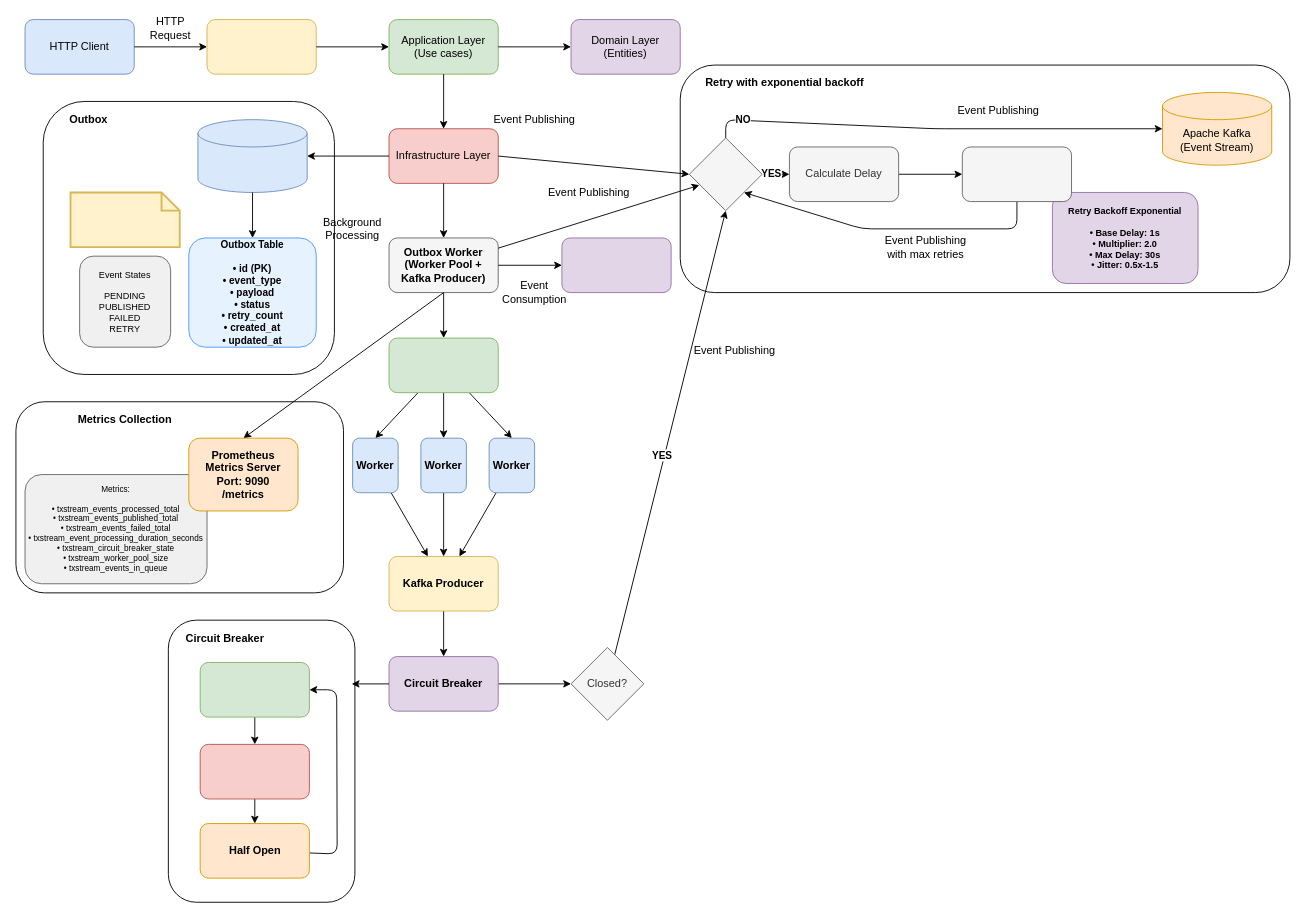
Some shapes in this 1306 by 918 pixel diagram are drawn without their labels. The centre of each missing label's shape, as x and y in pixels:
"ACID Transaction Event stored atomically with business data" belongs at (124,219).
"API Gateway (Gorilla Mux)" belongs at (261,46).
"Closed" belongs at (254,689).
"Event Consumers (Microservices)" belongs at (616,265).
"Fail?" belongs at (725,174).
"Open" belongs at (254,771).
"PostgreSQL (Outbox Table)" belongs at (252,155).
"Wait" belongs at (1016,174).
"Worker Pool" belongs at (443,365).
